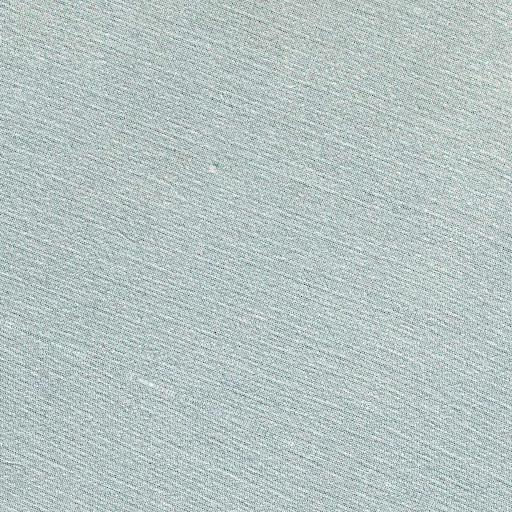knot: (203, 147, 229, 183)
